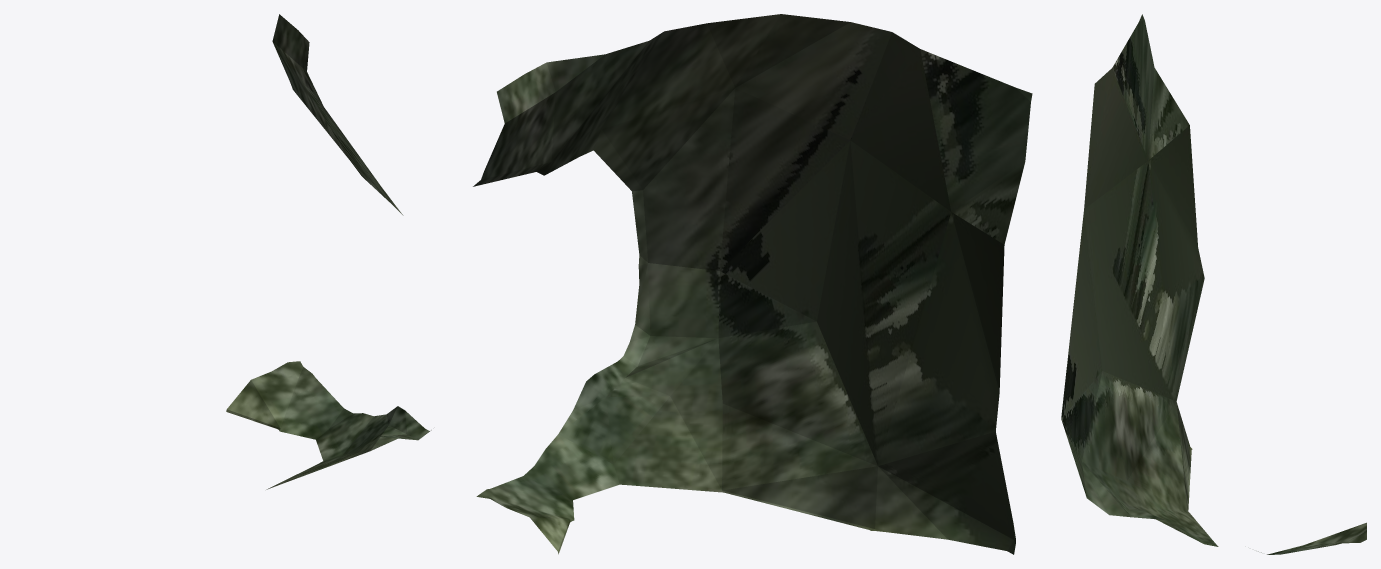
3 renders of one model, left to right at view 1: azimuth 30°, elevation 25°; view 2: azimuth 150°, elevation 25°; view 3: azimuth 270°, elevation 25°, orthographic. The views are drawn at different scales.
Bounding box in the file's own units: 2.95 × 2.95 × 2.15.
3 materials, 3 textured.
